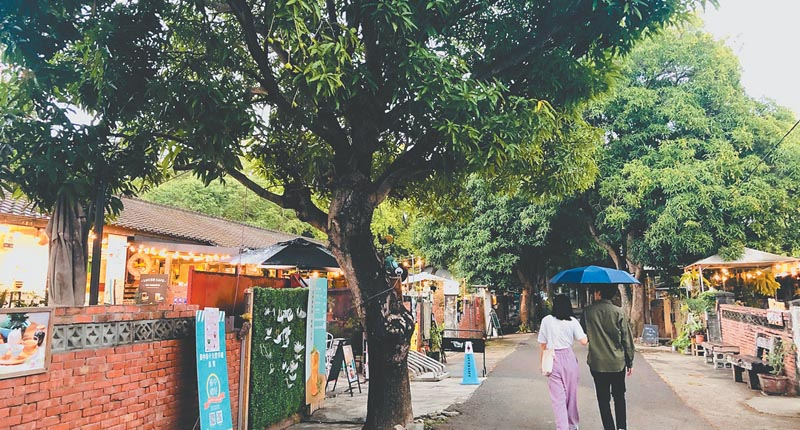people: (586, 284, 637, 430), (537, 296, 586, 429)
